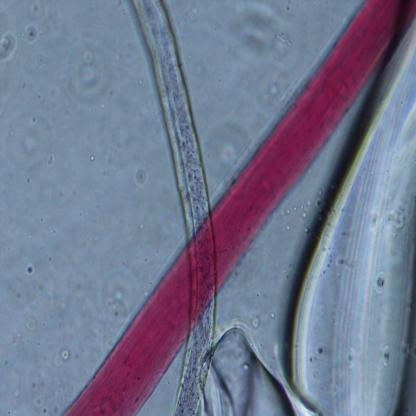Air bubble: (279, 43, 416, 412), (195, 330, 300, 416)
Background material: (49, 41, 120, 100), (219, 10, 294, 65), (4, 106, 54, 173), (200, 119, 252, 180), (100, 267, 142, 334), (23, 1, 50, 43), (256, 78, 289, 110), (282, 199, 314, 225), (25, 371, 46, 407), (0, 26, 23, 58), (54, 342, 76, 365), (132, 166, 154, 185), (27, 314, 40, 336), (314, 187, 324, 215), (25, 262, 36, 278), (250, 316, 263, 329), (88, 152, 95, 164), (268, 312, 276, 320)
Microfibre: (63, 1, 404, 416), (128, 0, 220, 414)
